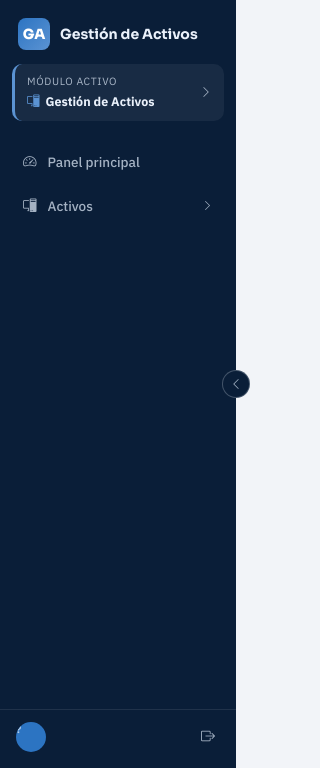
it: Navegar desde el menú › un clic normal navega
Step 1. Click the button "Activos" → (118, 206), box top-left (10, 185), bottom-right (226, 227)
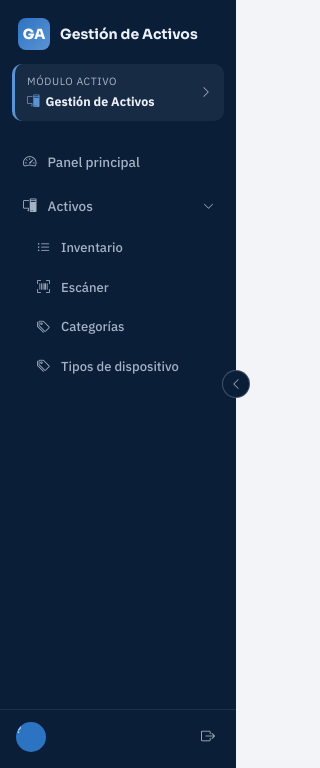
Step 2. Click the link "Inventario" → (80, 248), box top-left (37, 238), bottom-right (123, 258)
(page scrolled)
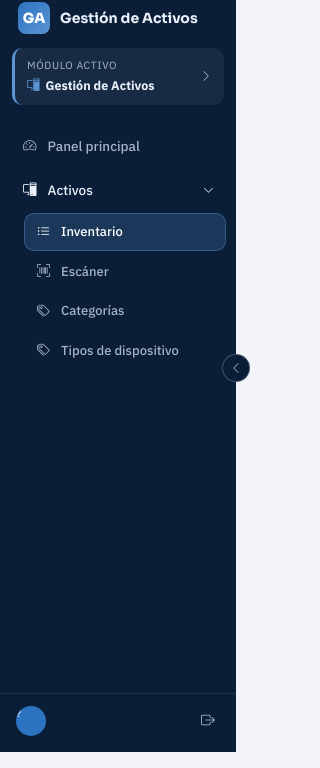
Result: the text "Ruta: /admin/activos" is shown at top-left (0, 732), bottom-right (131, 750)
